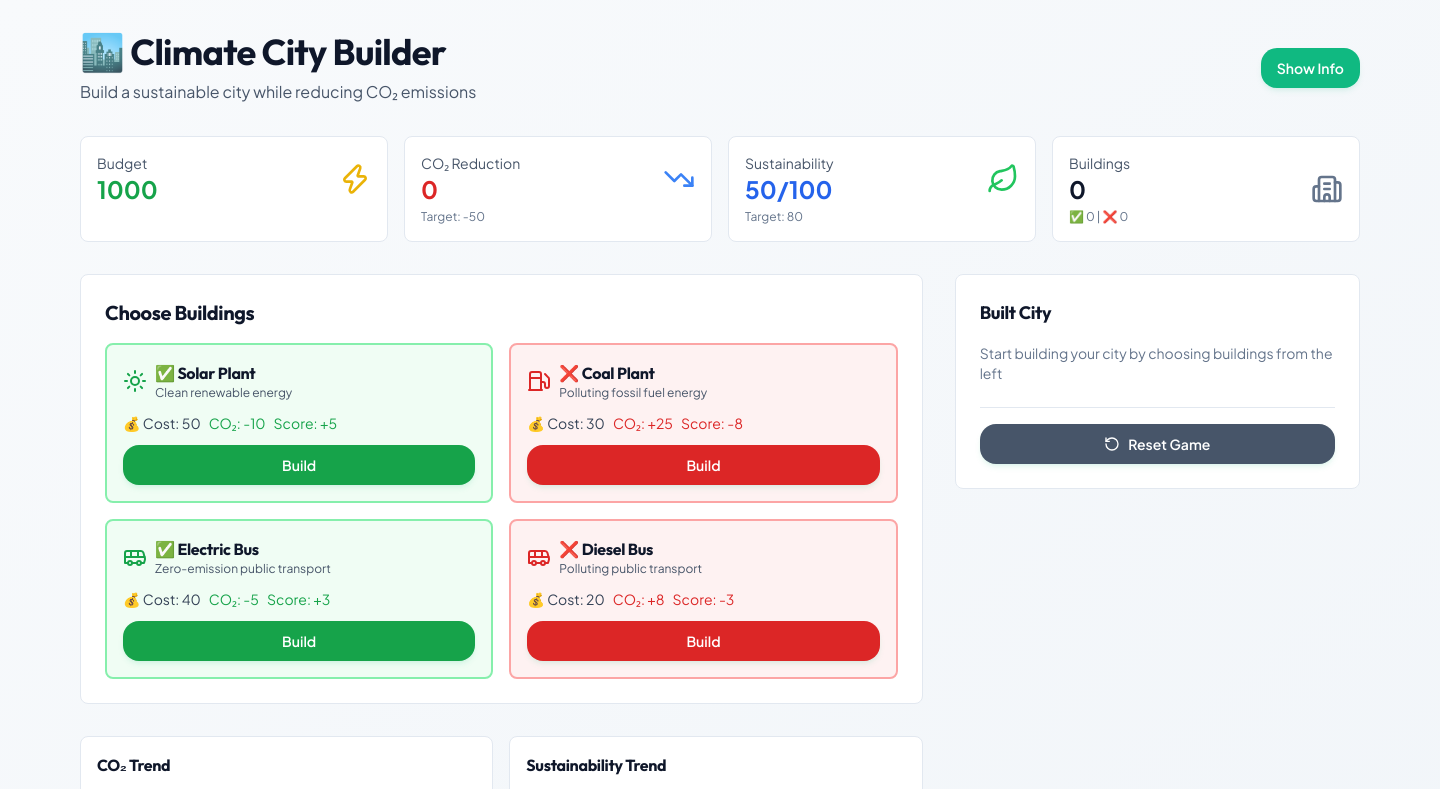
Test: ClimateCityBuilder › toggles info panel
Click the button "Show Info".
click(1310, 68)  # box top-left (1261, 48), bottom-right (1360, 88)
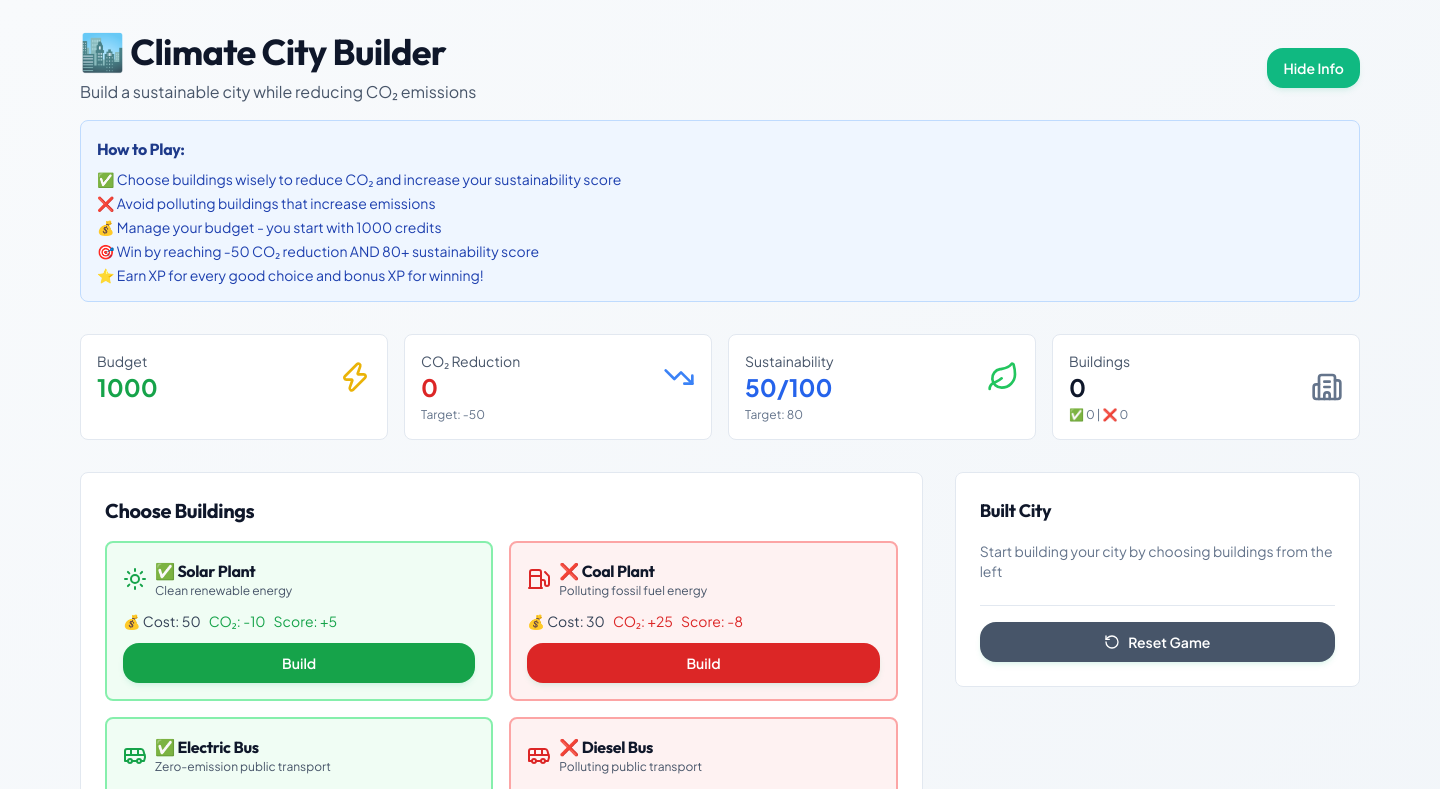
Check: the heading "How to Play:" is shown, box top-left (97, 139), bottom-right (185, 159)
Click the button "Hide Info".
click(1314, 68)  # box top-left (1267, 48), bottom-right (1360, 88)
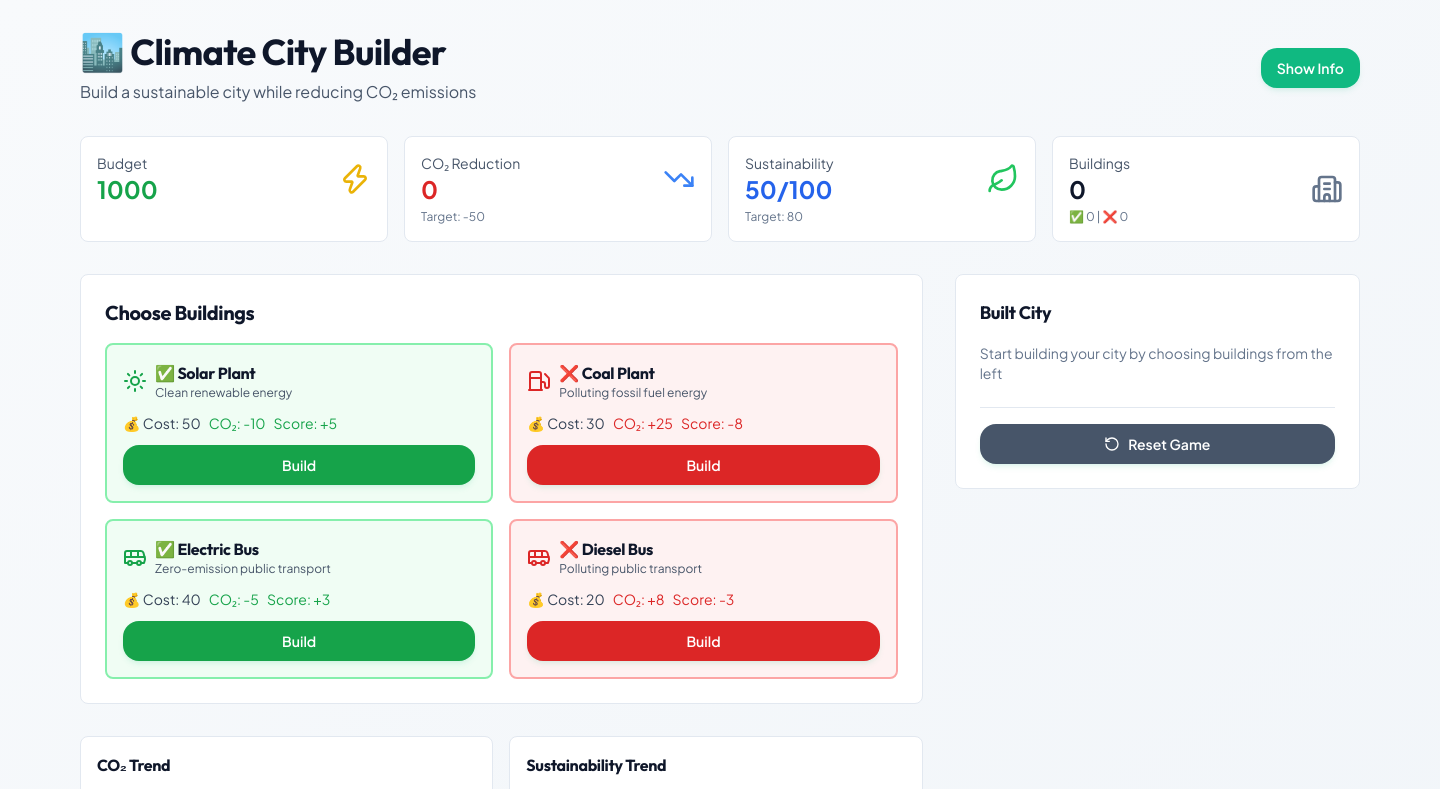
Check: the heading "How to Play:" is gone
